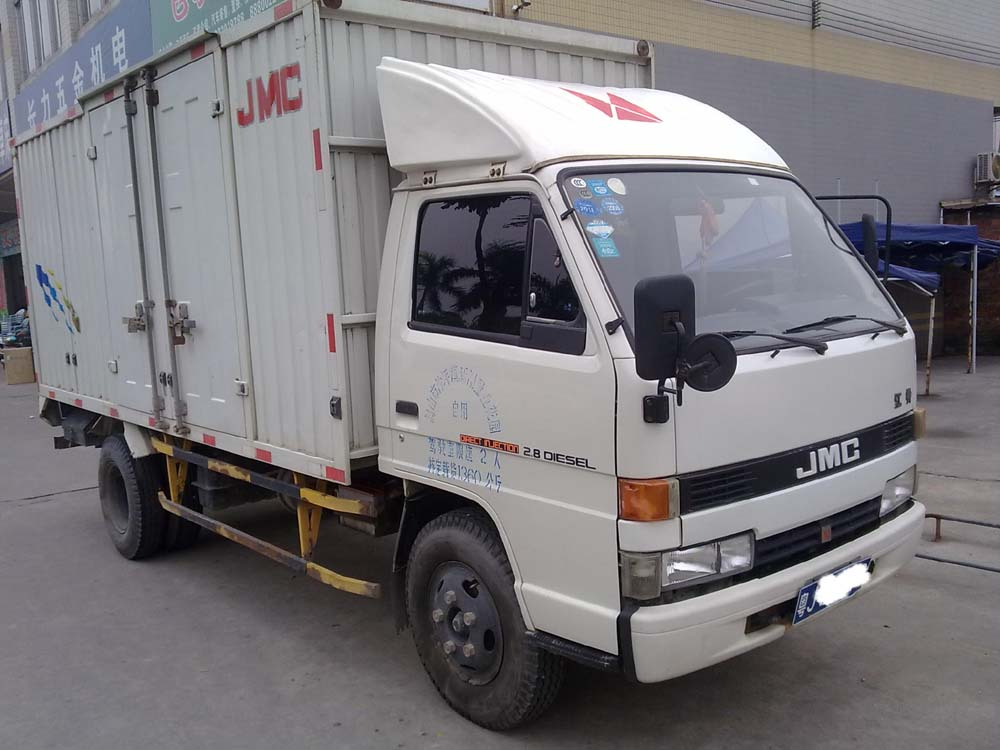truck: (8, 1, 934, 736)
